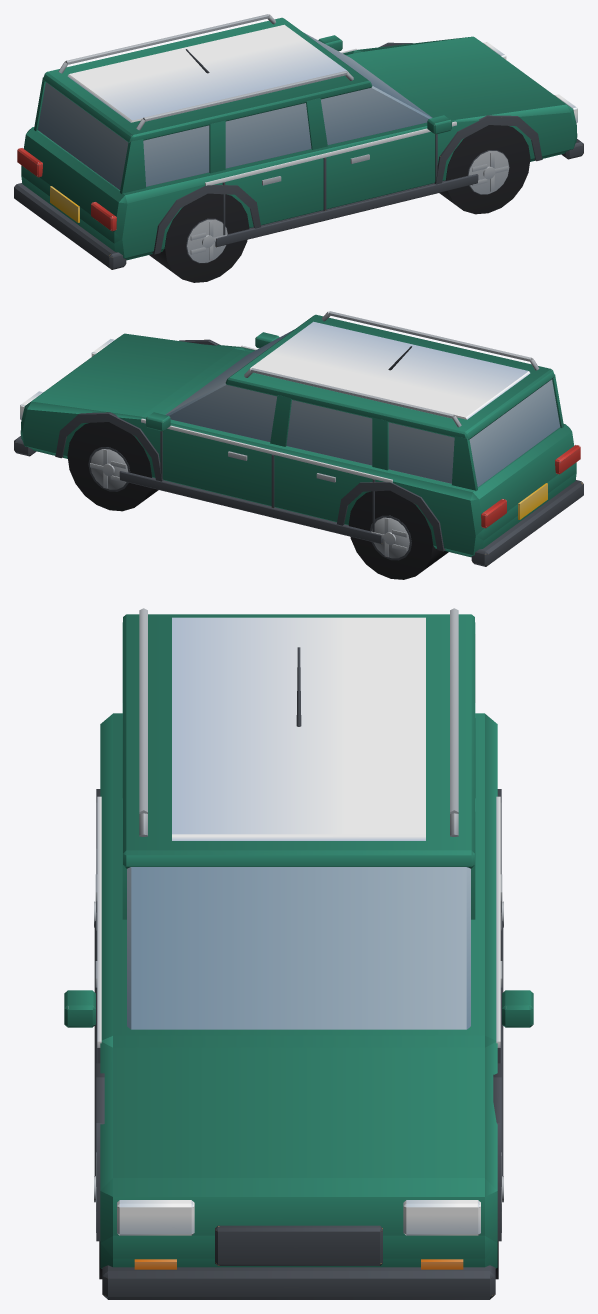
File: ck_car_estate.fbx
3 renders of one model, top to bottom at view 1: azimuth 30°, elevation 25°; view 2: azimuth 150°, elevation 25°; view 3: azimuth 270°, elevation 25°, orthographic. The views are drawn at different scales.
Parts seen in each view (by area): view 1: ck_car_estate; view 2: ck_car_estate; view 3: ck_car_estate.
Boxes of the visible parts, x1,y1,x2,y2 form: ck_car_estate: [14, 14, 583, 282]; ck_car_estate: [14, 311, 583, 579]; ck_car_estate: [64, 608, 533, 1299].
Bounding box in the file's own units: 1550 × 590 × 664.
